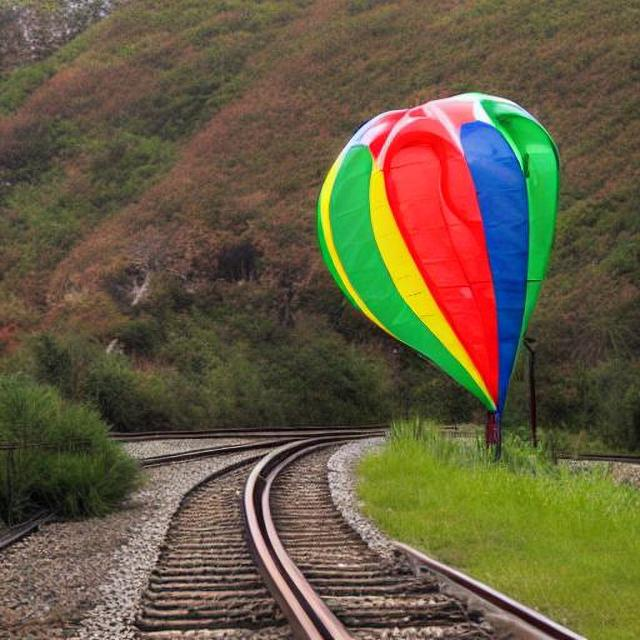balloon: (310, 89, 564, 448)
